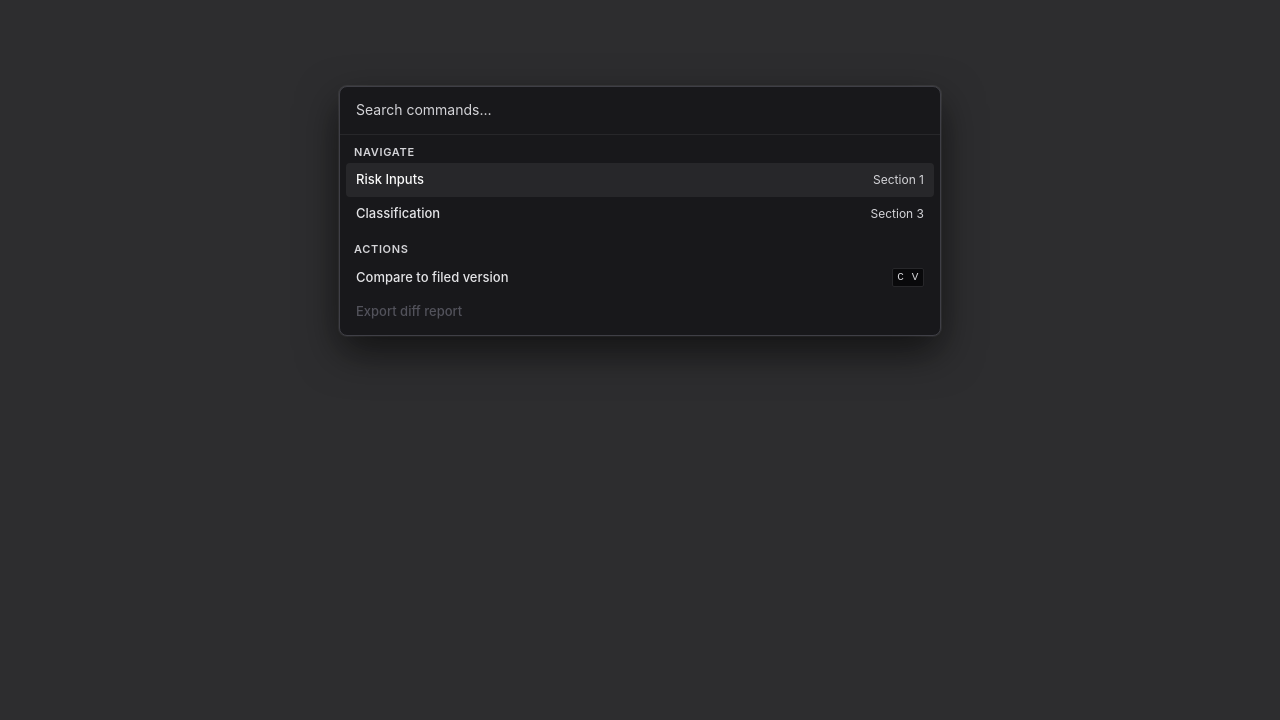
Scenario: <CommandPalette> — filtering › filters by typing in the input
The width and height of the screenshot is (1280, 720).
Step 1. Type "compare" into the dropdown → (656, 111), box [340,87,972,135]
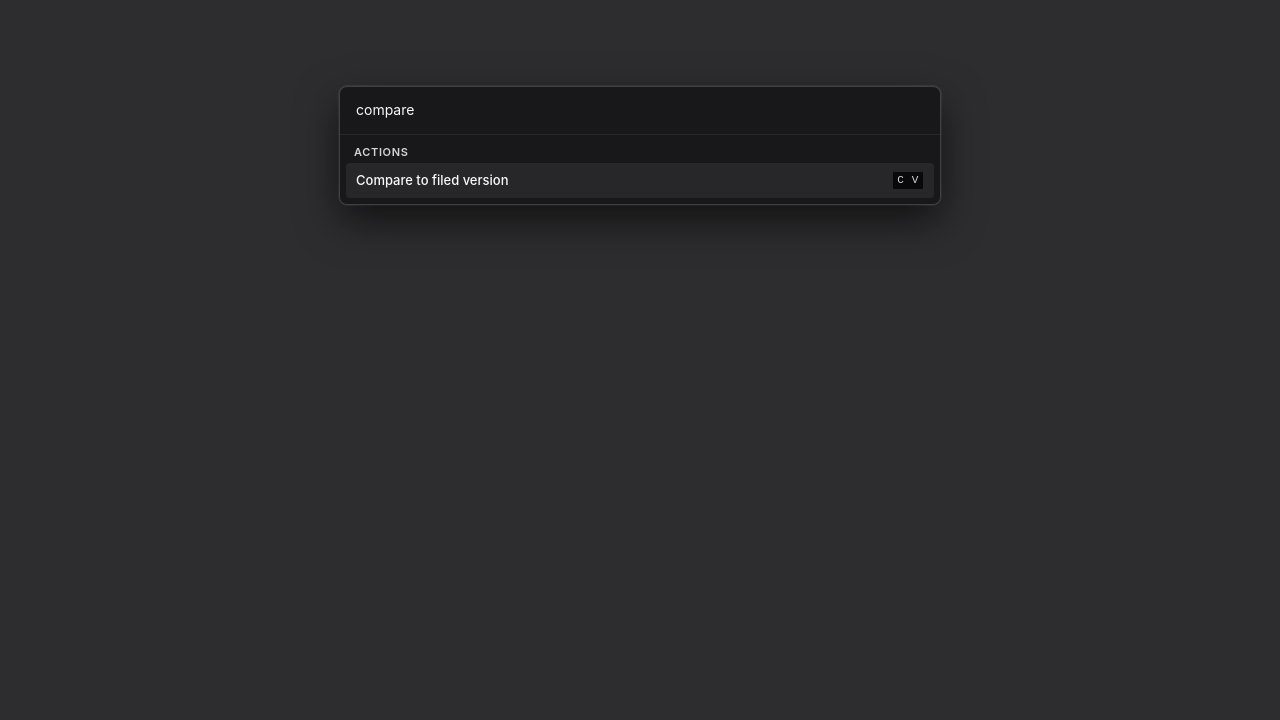
Expected: the text "Compare to filed version" is shown, [356,172,508,188]
Now the option "Risk Inputs" is gone
